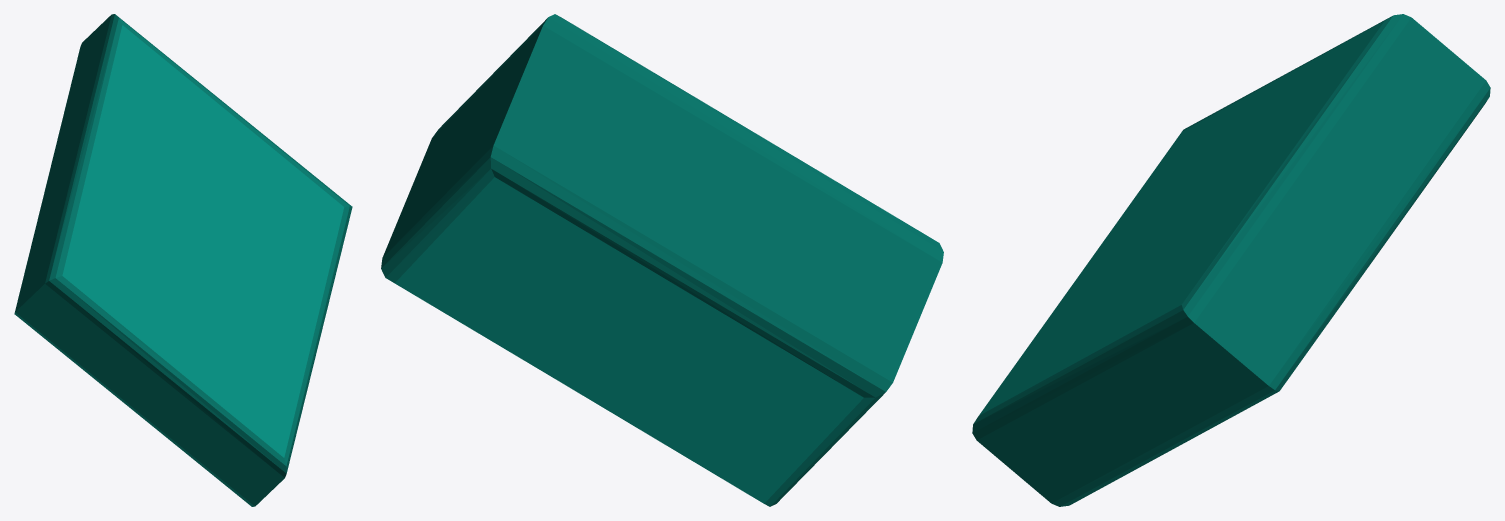
The model's file is diamond.glb.
3 views of the same model, side by side, from view 1: azimuth 30°, elevation 25°; view 2: azimuth 150°, elevation 25°; view 3: azimuth 270°, elevation 25° (orthographic). The views are drawn at different scales.
Size of the model in its own units: 1.04 by 1.28 by 1.22.
